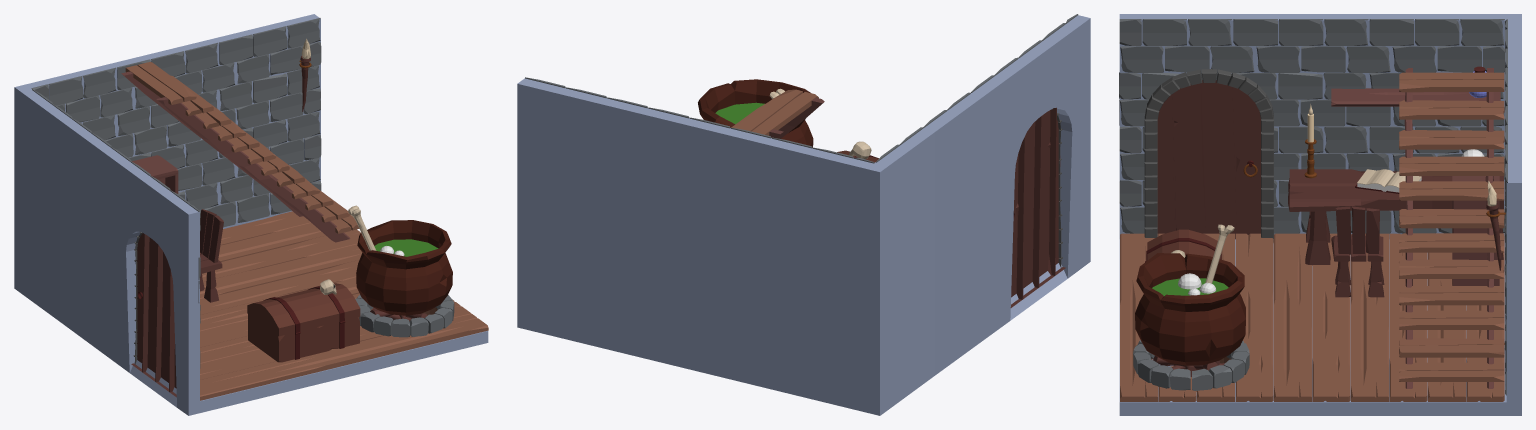
The model's file is Escena interior Ilumi.fbx.
3 views of the same model, side by side, from view 1: azimuth 30°, elevation 25°; view 2: azimuth 150°, elevation 25°; view 3: azimuth 270°, elevation 25° (orthographic). The views are drawn at different scales.
Visible parts, largest first — view 1: PAREDES, Plane, Cube.003, Cylinder, Cube.015, escaleras, Cube.007, Cube.001, Circle, Plane.023, Plane.025, Cube.002 (+7 smaller); view 2: PAREDES, Cube.015, Cylinder, Plane.023, Plane, Plane.024, Cylinder.002, escaleras; view 3: Plane.024, Cube.003, PAREDES, Cube.015, Cylinder, Cube, Plane.001, Circle, Plane.023, Plane.015, Plane.013, Plane.021 (+23 smaller).
Boxes of the visible parts, bbox=[...] form: PAREDES: bbox=[14, 14, 488, 415]; Plane: bbox=[31, 18, 321, 227]; Cube.003: bbox=[200, 211, 488, 400]; Cylinder: bbox=[356, 220, 452, 315]; Cube.015: bbox=[131, 233, 176, 397]; escaleras: bbox=[121, 71, 350, 242]; Cube.007: bbox=[247, 283, 360, 336]; Cube.001: bbox=[248, 314, 359, 362]; Circle: bbox=[355, 295, 454, 337]; Plane.023: bbox=[125, 62, 196, 104]; Plane.025: bbox=[200, 209, 223, 262]; Cube.002: bbox=[132, 155, 178, 193]; PAREDES: bbox=[517, 15, 1090, 415]; Cube.015: bbox=[1010, 107, 1065, 307]; Cylinder: bbox=[698, 79, 813, 147]; Plane.023: bbox=[734, 89, 818, 135]; Plane: bbox=[525, 77, 874, 163]; Plane.024: bbox=[876, 14, 1078, 162]; Cylinder.002: bbox=[715, 102, 764, 124]; escaleras: bbox=[769, 97, 824, 138]; Plane.024: bbox=[1119, 19, 1504, 233]; Cube.003: bbox=[1120, 233, 1504, 401]; PAREDES: bbox=[1119, 14, 1521, 415]; Cube.015: bbox=[1157, 80, 1260, 239]; Cylinder: bbox=[1135, 253, 1245, 365]; Cube: bbox=[1144, 69, 1273, 242]; Plane.001: bbox=[1288, 169, 1503, 211]; Circle: bbox=[1133, 340, 1249, 390]; Plane.023: bbox=[1399, 72, 1504, 92]; Plane.015: bbox=[1399, 286, 1504, 305]; Plane.013: bbox=[1399, 338, 1504, 357]; Plane.021: bbox=[1399, 130, 1504, 149].
Size of the model in its own units: 832 by 546 by 837.
